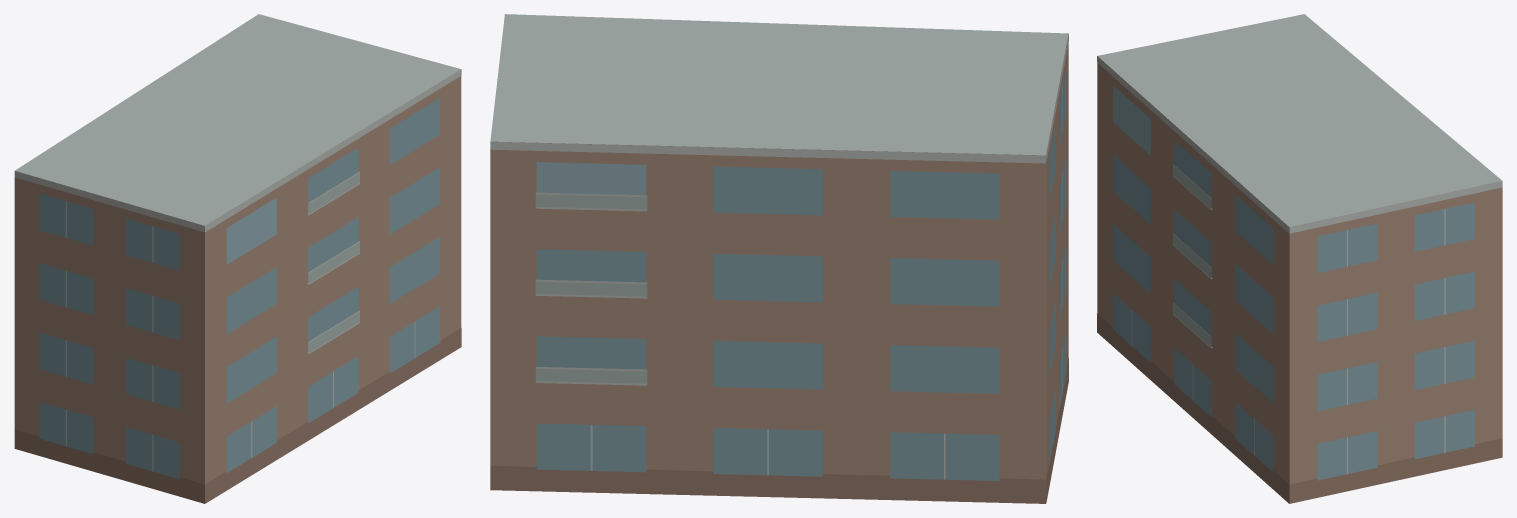
File: survey-upis-32891423.glb
3 renders of one model, left to right at view 1: azimuth 30°, elevation 25°; view 2: azimuth 150°, elevation 25°; view 3: azimuth 270°, elevation 25°, orthographic. The views are drawn at different scales.
Visible parts, largest first — view 1: survey-upis-32891423.tmp; view 2: survey-upis-32891423.tmp; view 3: survey-upis-32891423.tmp.
Boxes of the visible parts, left/top/right/bottom form: survey-upis-32891423.tmp: left=14, top=14, right=461, bottom=503; survey-upis-32891423.tmp: left=490, top=14, right=1068, bottom=503; survey-upis-32891423.tmp: left=1097, top=14, right=1502, bottom=503.
Bounding box in the file's own units: 17.21 × 10.4 × 13.83.
